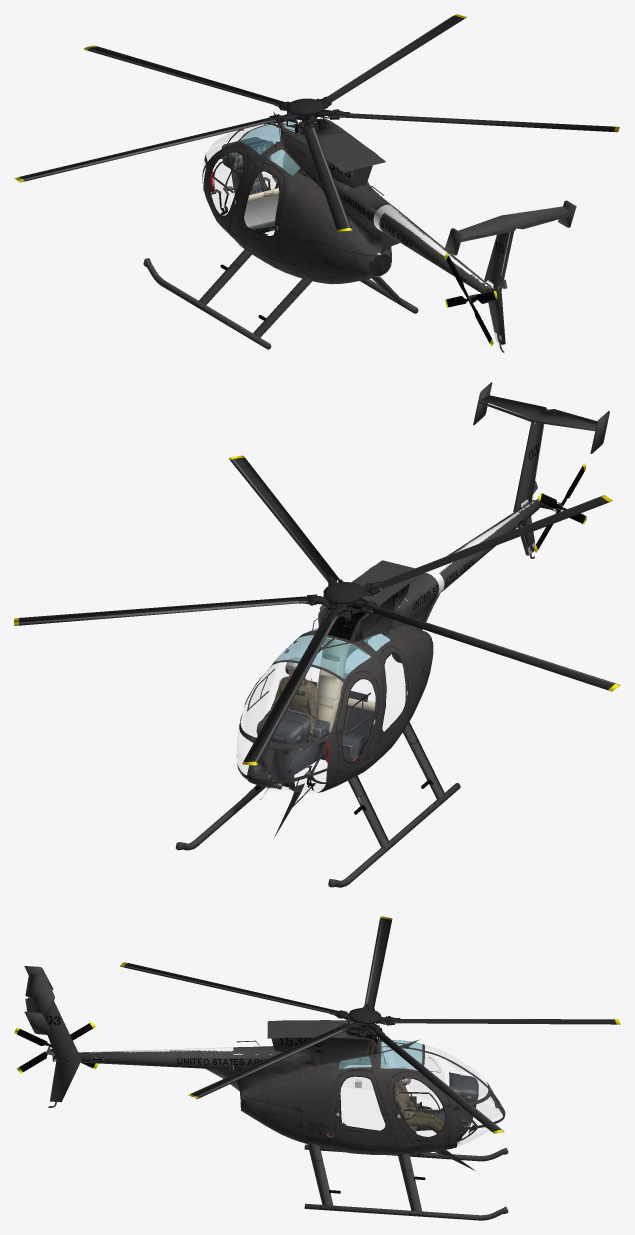
The picture shows the model from 3 angles, top to bottom: view 1: azimuth 30°, elevation 25°; view 2: azimuth 150°, elevation 25°; view 3: azimuth 270°, elevation 25°; orthographic projection. The views are drawn at different scales.
Visible parts, largest first — view 1: ext_fuselage1, rotor_main, ext_tail, ext_fuselage2, glasss_grn, int_seats2, int_console, rotor_tail, glass; view 2: rotor_main, ext_fuselage1, ext_fuselage2, ext_tail, int_console, glasss_grn, int_seats2, int_fuselage3, int_pilotR, glass, rotor_tail; view 3: ext_fuselage1, rotor_main, ext_tail, ext_fuselage2, glass, int_pilotR, glasss_grn, int_console, rotor_tail.
Part boxes in pixels (x1,y1,x2,y2): ext_fuselage1: [202, 111, 391, 278]; rotor_main: [14, 14, 619, 231]; ext_tail: [344, 183, 576, 353]; ext_fuselage2: [143, 118, 418, 349]; glasss_grn: [239, 121, 299, 175]; int_seats2: [238, 188, 279, 233]; int_console: [210, 137, 273, 194]; rotor_tail: [444, 253, 497, 346]; glass: [203, 125, 275, 214]; rotor_main: [14, 455, 620, 765]; ext_fuselage1: [236, 579, 439, 837]; ext_fuselage2: [175, 560, 460, 887]; ext_tail: [404, 382, 609, 621]; int_console: [256, 706, 329, 788]; glasss_grn: [275, 628, 389, 678]; int_seats2: [278, 679, 381, 762]; int_fuselage3: [317, 637, 371, 732]; int_pilotR: [269, 657, 318, 774]; glass: [237, 663, 311, 792]; rotor_tail: [534, 463, 586, 552]; ext_fuselage1: [233, 1027, 495, 1170]; rotor_main: [120, 916, 620, 1133]; ext_tail: [24, 966, 281, 1107]; ext_fuselage2: [240, 1020, 508, 1220]; glass: [343, 1045, 500, 1146]; int_pilotR: [393, 1067, 463, 1138]; glasss_grn: [338, 1040, 422, 1070]; int_console: [416, 1072, 478, 1135]; rotor_tail: [14, 1022, 98, 1073].
Size of the model in its own units: 7.48 by 3.44 by 9.23.
10 materials, 10 textured.
